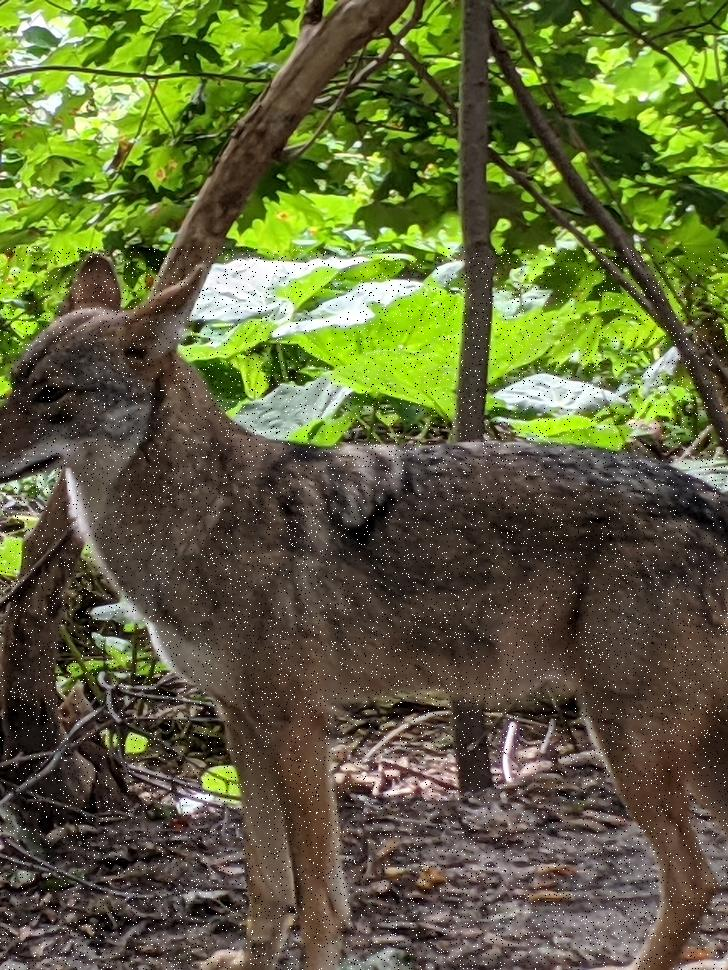Coyote: (0, 247, 728, 970)
